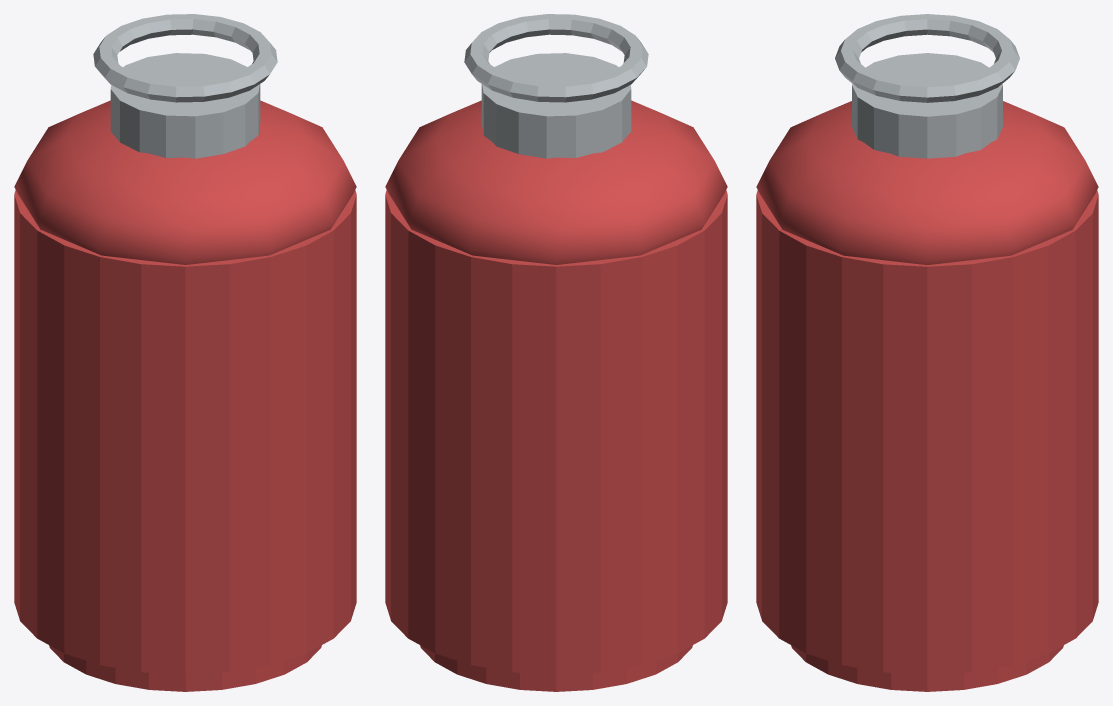
Rendered from gas_cylinder_12kg_red.glb.
The picture shows the model from 3 angles, left to right: view 1: azimuth 30°, elevation 25°; view 2: azimuth 150°, elevation 25°; view 3: azimuth 270°, elevation 25°; orthographic projection.
Parts seen in each view (by area): view 1: gas bottle, cylinder shoulder, cylinder neck, guard hoop, foot ring; view 2: gas bottle, cylinder shoulder, cylinder neck, guard hoop, foot ring; view 3: gas bottle, cylinder shoulder, cylinder neck, guard hoop, foot ring.
Part boxes in pixels (x1,y1,x2,y2): gas bottle: [14, 190, 356, 674]; cylinder shoulder: [14, 100, 356, 264]; cylinder neck: [110, 53, 260, 158]; guard hoop: [93, 14, 277, 102]; foot ring: [49, 645, 321, 691]; gas bottle: [385, 190, 727, 674]; cylinder shoulder: [385, 100, 727, 264]; cylinder neck: [481, 53, 631, 158]; guard hoop: [464, 14, 648, 102]; foot ring: [420, 645, 692, 691]; gas bottle: [756, 190, 1098, 674]; cylinder shoulder: [756, 101, 1098, 264]; cylinder neck: [852, 53, 1002, 158]; guard hoop: [835, 14, 1019, 102]; foot ring: [791, 645, 1063, 691].
Size of the model in its own units: 0.32 by 0.6003 by 0.32.
